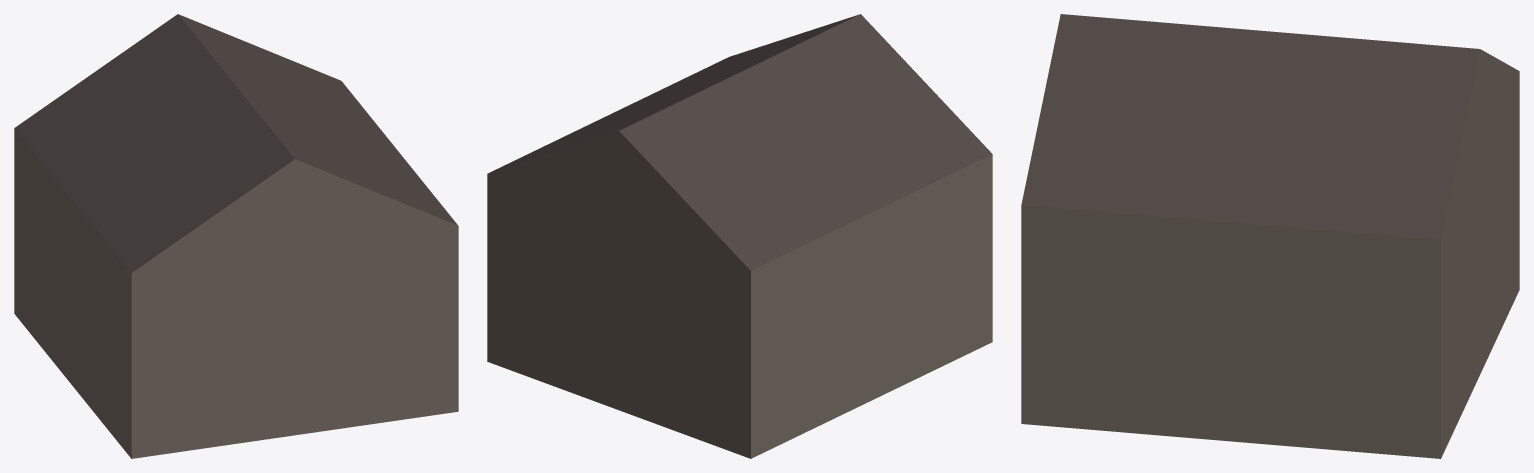
3 views of the same model, side by side, from view 1: azimuth 30°, elevation 25°; view 2: azimuth 150°, elevation 25°; view 3: azimuth 270°, elevation 25° (orthographic). The views are drawn at different scales.
Parts seen in each view (by area): view 1: HP-w859082523; view 2: HP-w859082523; view 3: HP-w859082523.
Boxes of the visible parts, x1,y1,x2,y2 form: HP-w859082523: (14, 14, 458, 458); HP-w859082523: (487, 14, 992, 458); HP-w859082523: (1021, 14, 1519, 458).
Size of the model in its own units: 11.99 by 8.92 by 12.37.
